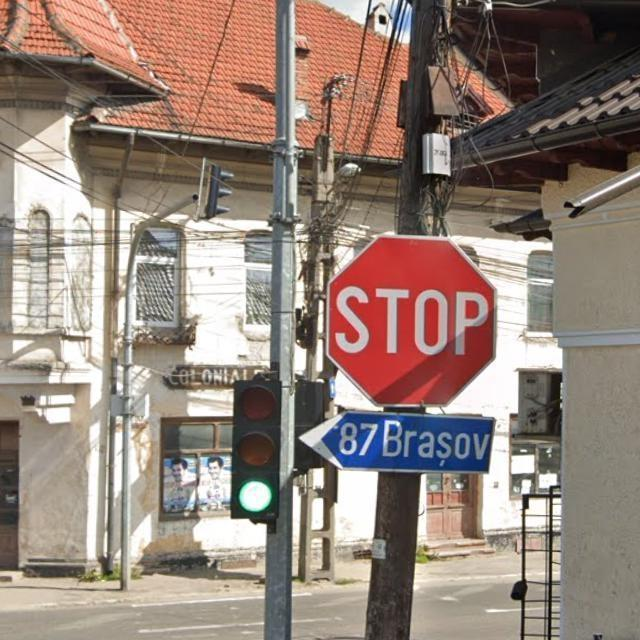prio_stop: (323, 235, 496, 407)
